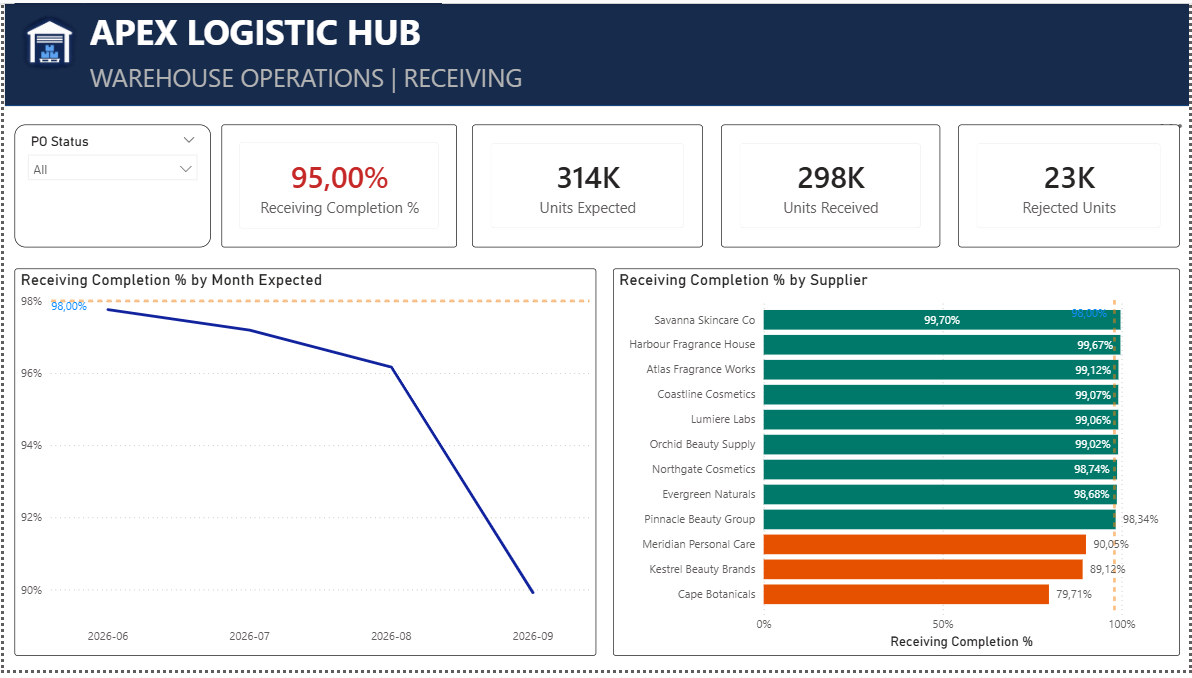

Layout of this report page (visuals, bound fields, positions):
{"tool":"powerbi","page":{"name":"Receiving","canvas":[1280,720],"ordinal":1},"visuals":[{"type":"shape","box":[0,0,1280.8,111.7],"z":0},{"type":"image","box":[11.3,0,76.1,82.6],"z":1000},{"type":"textbox","box":[87.4,0,385.4,69.6],"z":2000},{"type":"textbox","box":[87.4,56.7,484.1,45.3],"z":3000},{"type":"cardVisual","fields":{"Data":["_Measures.Units Expected"]},"box":[504.4,131.2,249.4,132.8],"z":5000},{"type":"cardVisual","fields":{"Data":["_Measures.Units Received"]},"box":[773.6,131.2,236.4,132.8],"z":6000},{"type":"cardVisual","fields":{"Data":["_Measures.Rejected Units"]},"box":[1029.8,131.2,239.6,132.8],"z":7000},{"type":"slicer","fields":{"Values":["dw fact_receipts.po_status"]},"box":[11.3,131.2,212.1,132.8],"z":8000},{"type":"lineChart","title":"Receiving Completion % by Month Expected","fields":{"Category":["dw dim_date.year_month"],"Y":["_Measures.Receiving Completion %"]},"box":[11.3,286.6,628.3,417.8],"z":9000},{"type":"clusteredBarChart","title":"Receiving Completion % by Supplier","fields":{"Category":["dw dim_supplier.supplier_name"],"Y":["_Measures.Receiving Completion %"]},"box":[657.4,286.6,612.1,417.8],"z":10000},{"type":"cardVisual","fields":{"Data":["_Measures.Receiving Completion %"]},"box":[234.8,131.2,254.2,132.8],"z":10001}]}

Visuals, with their boxes in screenshot pixels (x1, y1, x2, y2), scaled from the page's 1280x720 canvas onto the 1192x678 screenshot:
shape: pyautogui.locateOnScreen(0, 0, 1191, 105)
image: pyautogui.locateOnScreen(11, 0, 81, 78)
textbox: pyautogui.locateOnScreen(81, 0, 440, 66)
textbox: pyautogui.locateOnScreen(81, 53, 532, 96)
cardVisual - _Measures.Units Expected: pyautogui.locateOnScreen(470, 124, 702, 249)
cardVisual - _Measures.Units Received: pyautogui.locateOnScreen(720, 124, 941, 249)
cardVisual - _Measures.Rejected Units: pyautogui.locateOnScreen(959, 124, 1182, 249)
slicer - dw fact_receipts.po_status: pyautogui.locateOnScreen(11, 124, 208, 249)
"Receiving Completion % by Month Expected" lineChart: pyautogui.locateOnScreen(11, 270, 596, 663)
"Receiving Completion % by Supplier" clusteredBarChart: pyautogui.locateOnScreen(612, 270, 1182, 663)
cardVisual - _Measures.Receiving Completion %: pyautogui.locateOnScreen(219, 124, 455, 249)
